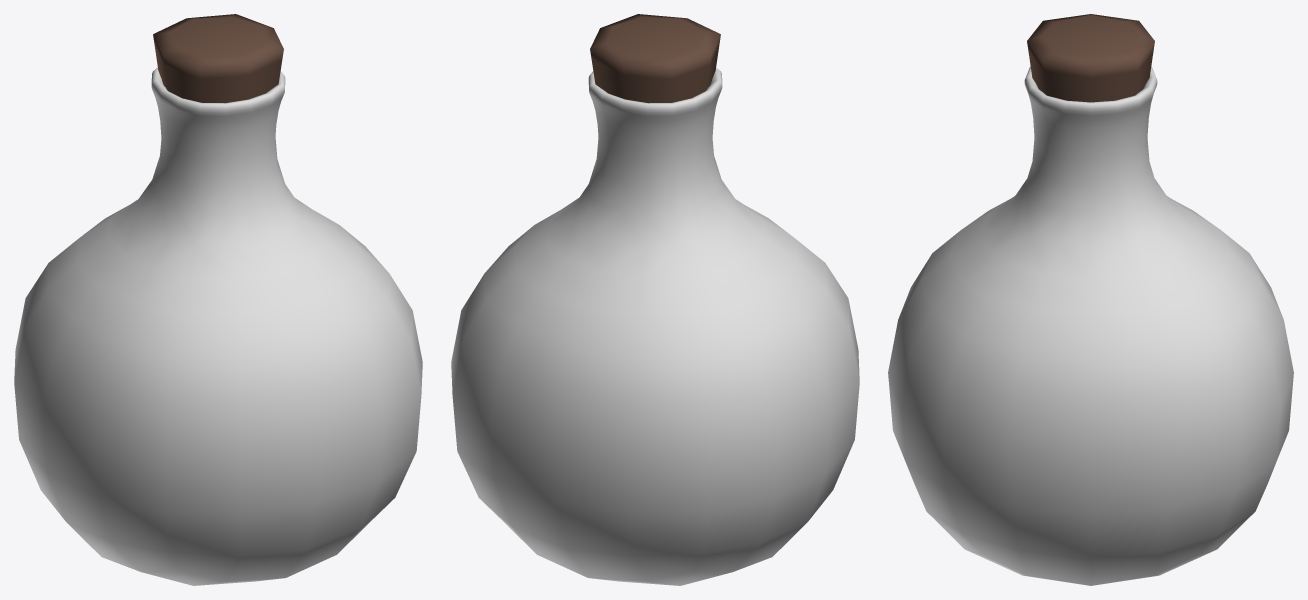
Rendered from potion1.glb.
3 views of the same model, side by side, from view 1: azimuth 30°, elevation 25°; view 2: azimuth 150°, elevation 25°; view 3: azimuth 270°, elevation 25° (orthographic).
Visible parts, largest first — view 1: Potion1_Filled; view 2: Potion1_Filled; view 3: Potion1_Filled.
Boxes of the visible parts, x1=… form: Potion1_Filled: x1=14, y1=14, x2=422, y2=585; Potion1_Filled: x1=451, y1=14, x2=859, y2=585; Potion1_Filled: x1=888, y1=14, x2=1293, y2=585.
Size of the model in its own units: 0.6685 by 0.9629 by 0.6685.
